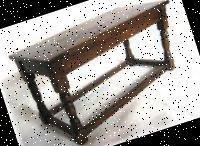Mesa: (5, 0, 199, 145)
